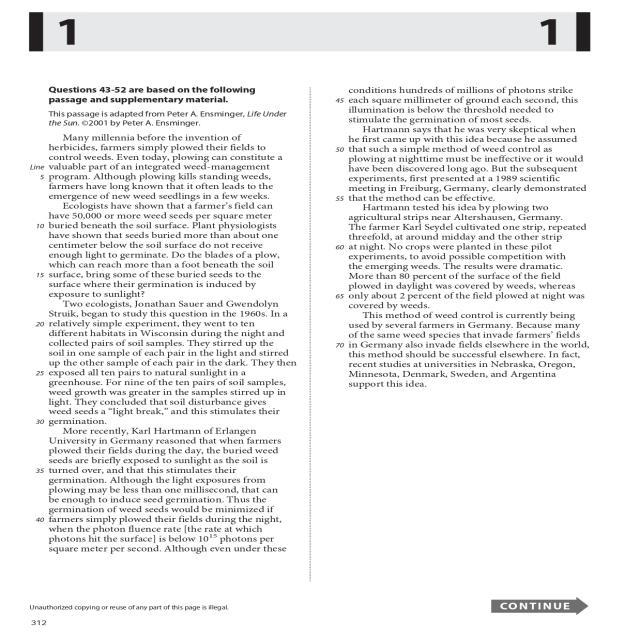Instruction: (29, 82, 304, 582), (328, 82, 600, 582)
Question_Paper_Area: (29, 82, 304, 582), (328, 82, 600, 582)
